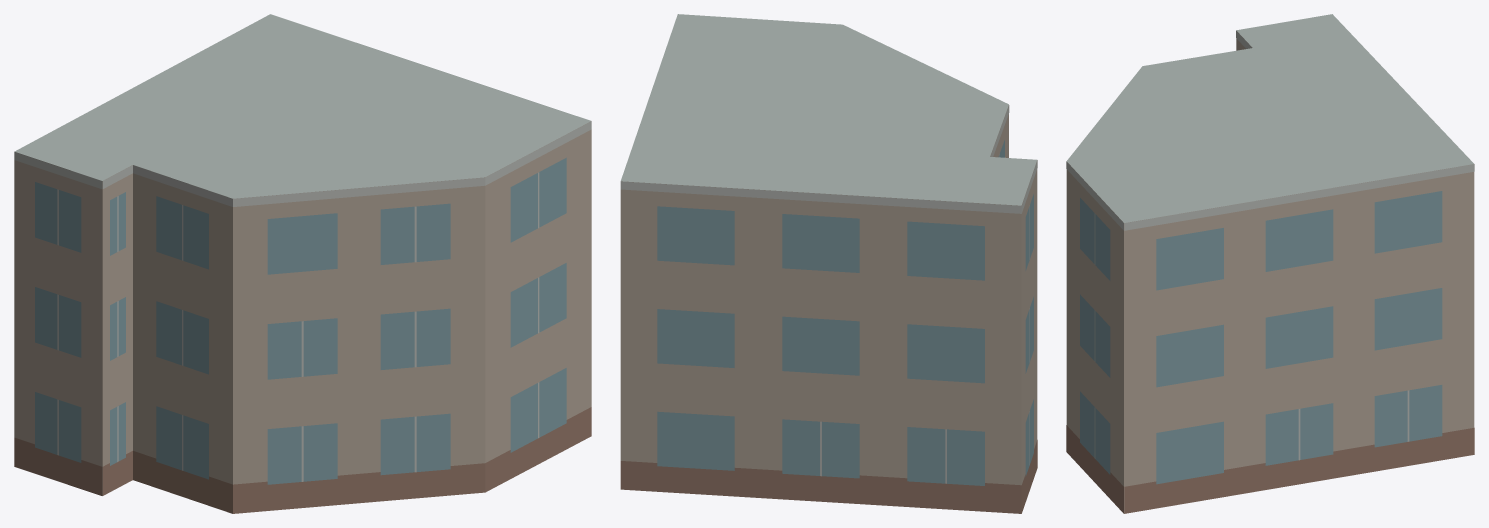
The model's file is survey-upis-32940711.glb.
3 views of the same model, side by side, from view 1: azimuth 30°, elevation 25°; view 2: azimuth 150°, elevation 25°; view 3: azimuth 270°, elevation 25° (orthographic). The views are drawn at different scales.
Parts seen in each view (by area): view 1: survey-upis-32940711.tmp; view 2: survey-upis-32940711.tmp; view 3: survey-upis-32940711.tmp.
Boxes of the visible parts, x1,y1,x2,y2 form: survey-upis-32940711.tmp: (14, 14, 591, 513); survey-upis-32940711.tmp: (620, 14, 1037, 513); survey-upis-32940711.tmp: (1066, 14, 1474, 513).
Size of the model in its own units: 14.12 by 9.15 by 11.65.
